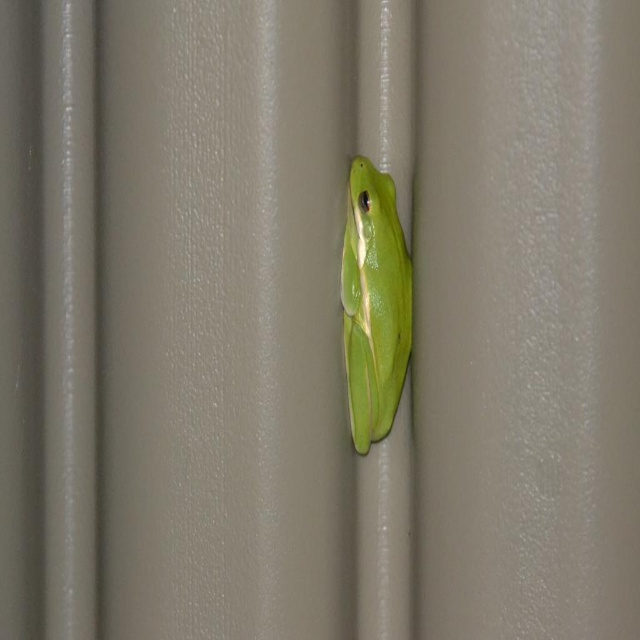Frog: (340, 152, 412, 455)
